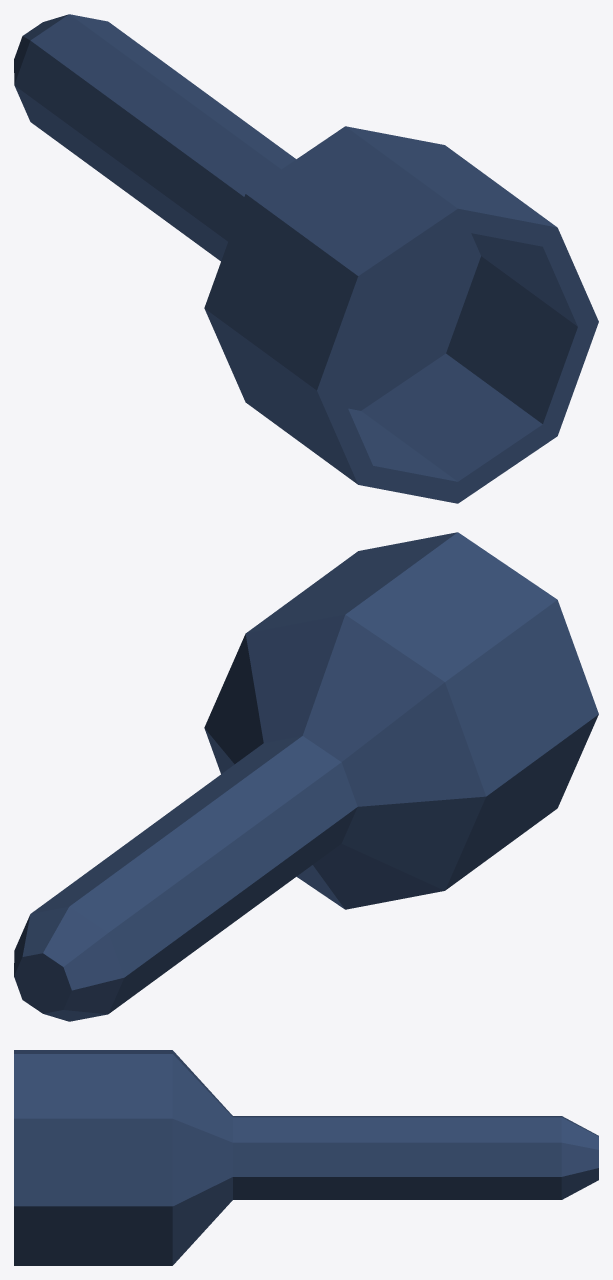
The model's file is Flashlight.glb.
3 views of the same model, one above another, from view 1: azimuth 30°, elevation 25°; view 2: azimuth 150°, elevation 25°; view 3: azimuth 270°, elevation 25° (orthographic). The views are drawn at different scales.
Parts seen in each view (by area): view 1: Cylinder; view 2: Cylinder; view 3: Cylinder.
Boxes of the visible parts, x1,y1,x2,y2 form: Cylinder: (14, 14, 598, 503); Cylinder: (14, 532, 598, 1021); Cylinder: (14, 1050, 598, 1265).
Bounding box in the file's own units: 0.9309 × 0.9309 × 2.37.
